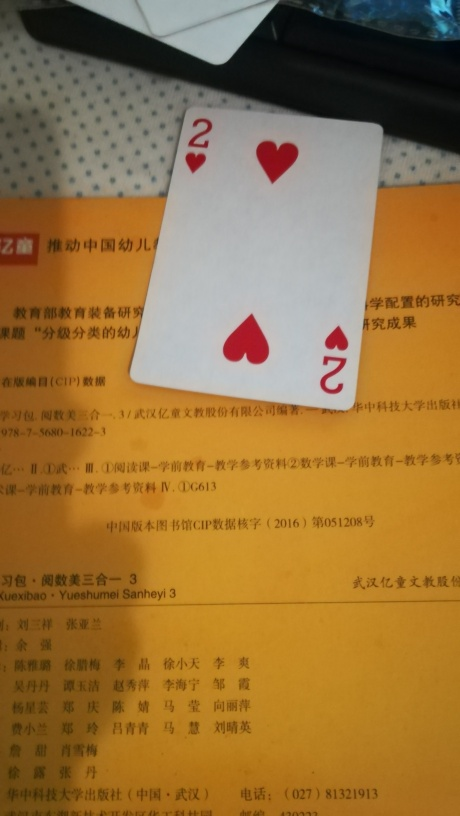hx 2: (128, 102, 383, 413)
